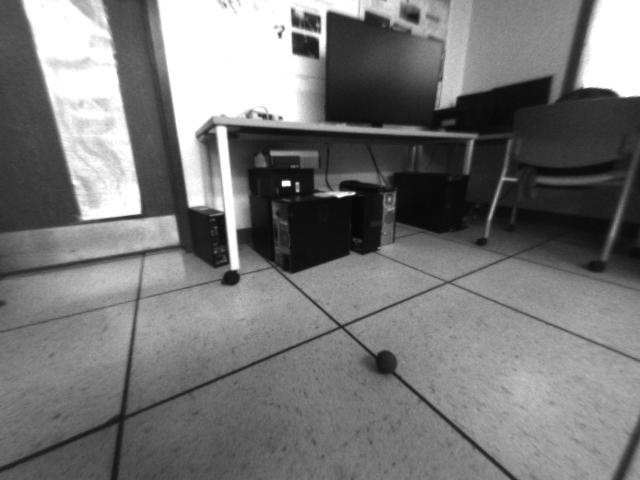dogtoy: (367, 343, 403, 379)
